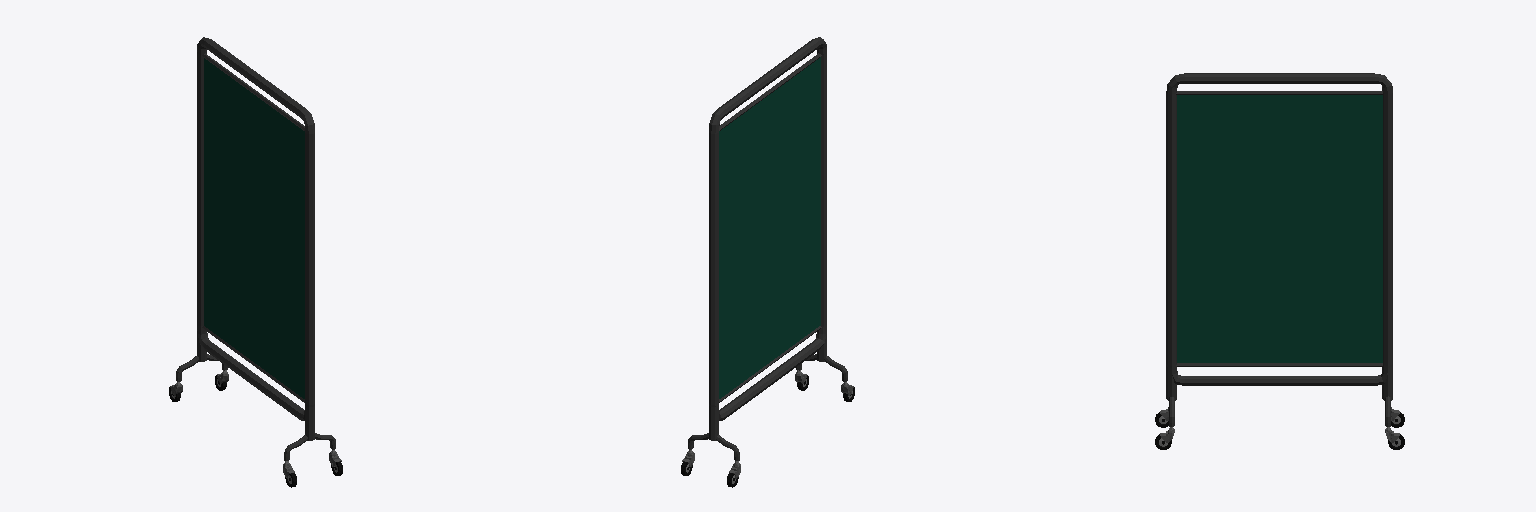
File: MedicalScreenA.obj
3 renders of one model, left to right at view 1: azimuth 30°, elevation 25°; view 2: azimuth 150°, elevation 25°; view 3: azimuth 270°, elevation 25°, orthographic.
Parts seen in each view (by area): view 1: MedicalScreenA; view 2: MedicalScreenA; view 3: MedicalScreenA.
Part boxes in pixels (bbox=[...]): MedicalScreenA: bbox=[169, 37, 342, 487]; MedicalScreenA: bbox=[681, 37, 854, 487]; MedicalScreenA: bbox=[1155, 73, 1404, 449].
Bounding box in the file's own units: 2.19 × 14.18 × 8.81.